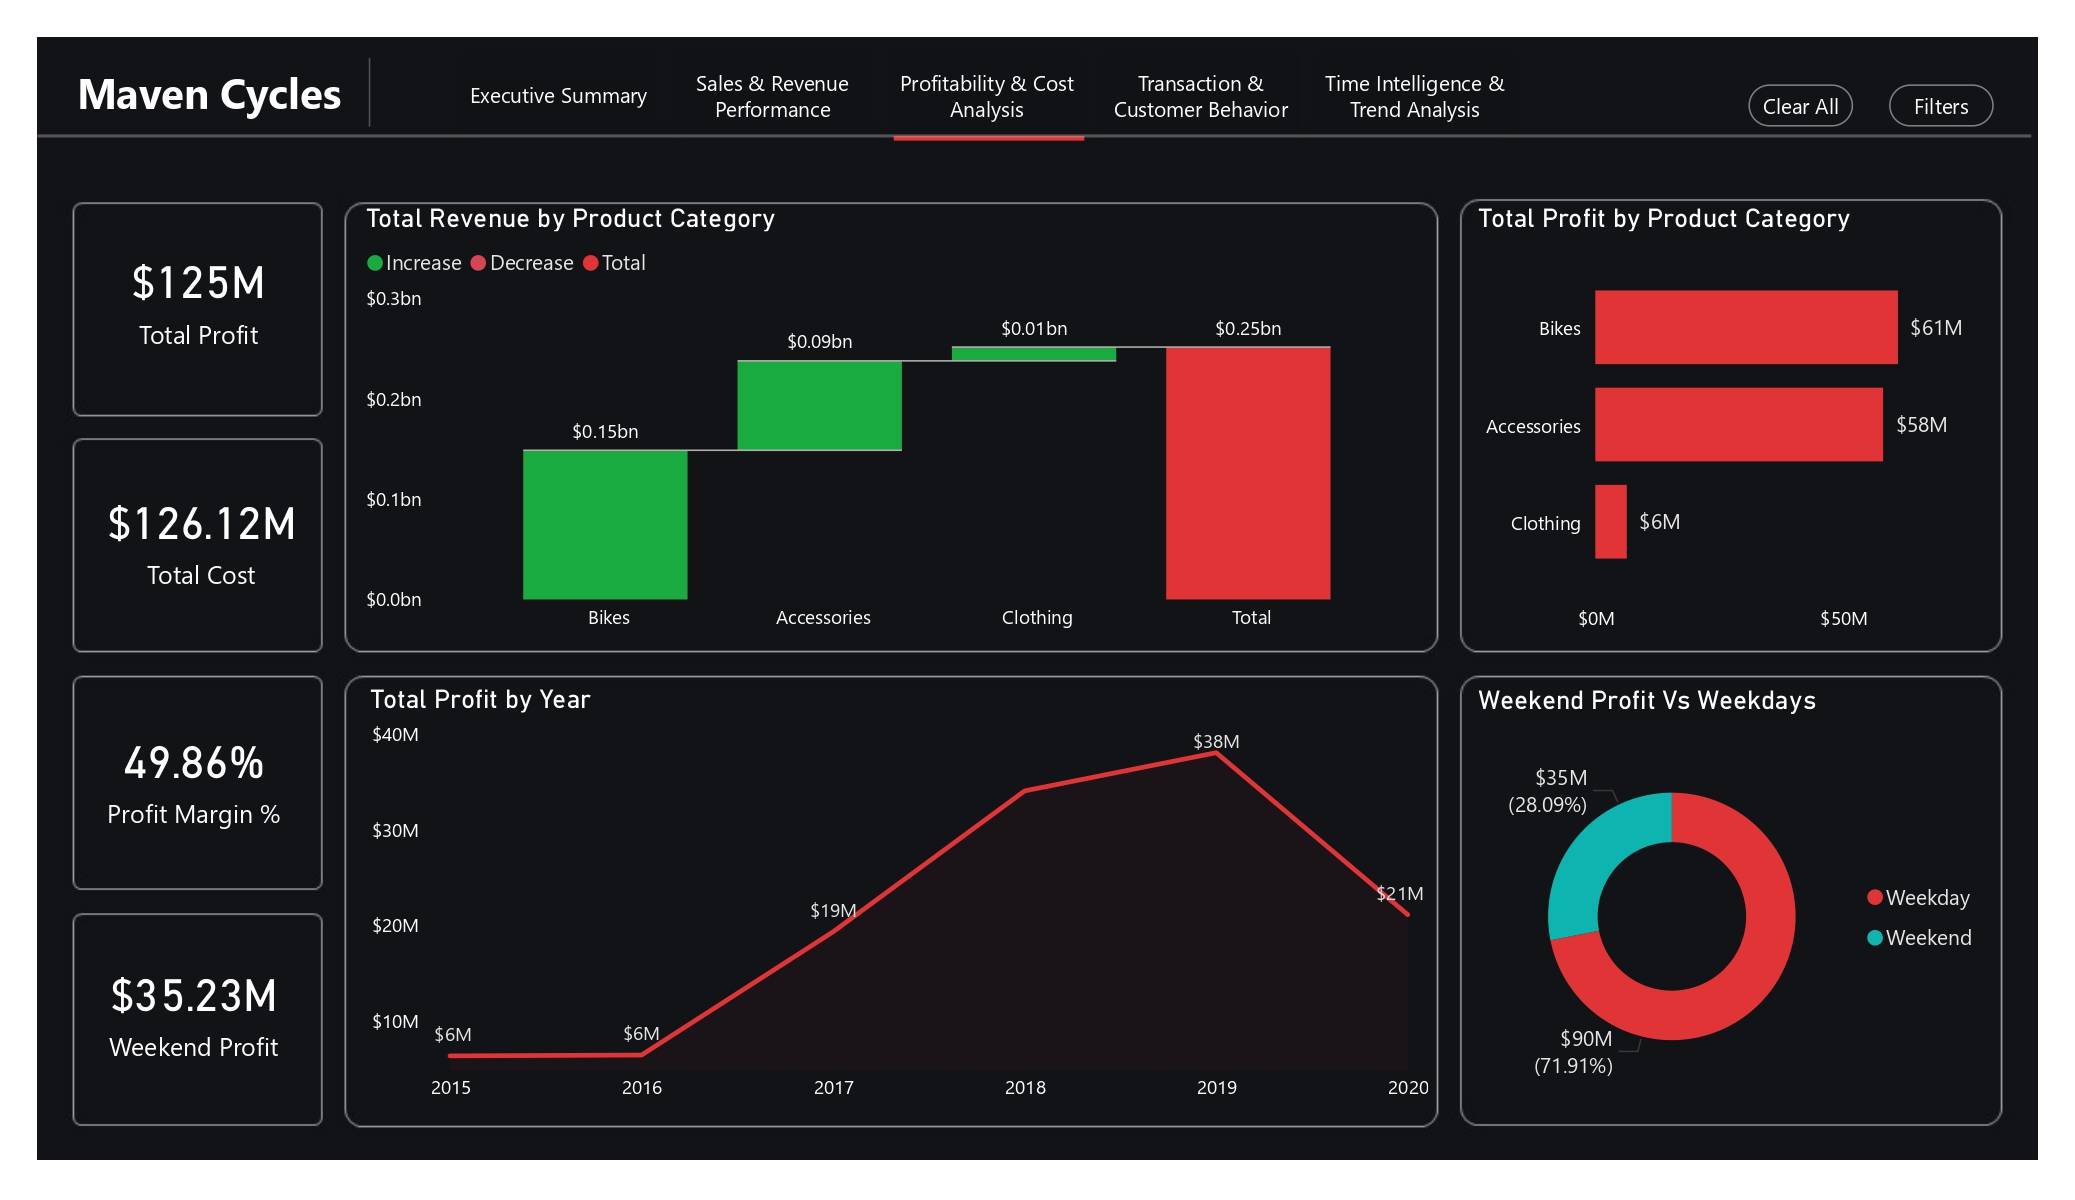

This screenshot's page, from the dashboard's own definition file:
{"tool":"powerbi","page":{"name":"Profitability & Cost Analysis","canvas":[1280,720],"ordinal":2},"visuals":[{"type":"actionButton","box":[21.4,4.3,201.2,61.4],"z":0},{"type":"pageNavigator","box":[284.5,53.5,649.7,12.5],"z":0,"group":"g1"},{"type":"pageNavigator","box":[270.2,9.6,675.5,52.7],"z":1000,"group":"g1"},{"type":"shape","box":[191.5,12.8,42.6,44.7],"z":1000},{"type":"card","fields":{"Values":["Measure_Table.Total Profit"]},"box":[23.1,98.1,159.6,134.6],"z":2000},{"type":"card","fields":{"Values":["Measure_Table.Total Cost"]},"box":[23.1,251.9,163.5,134.6],"z":3000},{"type":"card","fields":{"Values":["Measure_Table.Profit Margin %"]},"box":[23.1,407.7,153.8,128.8],"z":4000},{"type":"card","fields":{"Values":["Measure_Table.Weekend Profit"]},"box":[23.1,555.8,153.8,130.8],"z":5000},{"type":"waterfallChart","title":"Total Revenue by Product Category","fields":{"Category":["Dim_Product_Categories.ProductCategory"],"Y":["Measure_Table.Total Revenue"]},"box":[204.8,104.8,687.3,285.7],"z":6000},{"type":"clusteredBarChart","title":"Total Profit by Product Category","fields":{"Category":["Dim_Product_Categories.ProductCategory"],"Y":["Measure_Table.Total Profit"]},"box":[917.5,104.8,338.1,285.7],"z":7000},{"type":"donutChart","title":"Weekend Profit Vs Weekdays","fields":{"Category":["DimCalendar.Day_Type"],"Y":["Measure_Table.Total Profit"]},"box":[917.5,414.3,334.9,277.8],"z":8000},{"type":"lineChart","fields":{"Category":["DimCalendar.Year"],"Y":["Measure_Table.Total Profit"]},"box":[207.9,412.7,687.3,277.8],"z":9000},{"type":"group","id":"g1","title":"Group 1","box":[270.2,9.6,675.5,56.4],"z":10000},{"type":"actionButton","box":[1184.6,29.9,67.2,26.9],"z":12000},{"type":"actionButton","box":[1095,29.9,67.2,26.9],"z":13000},{"type":"shape","box":[0,56.4,1275.5,13.8],"z":15001}]}

Visuals, with their boxes on the page's 1280x720 design canvas (x1, y1, x2, y2). These are canvas units, not pixel positions in the 2075x1200 screenshot, which may show the page scaled, cropped or inside an application window:
actionButton: [21,4,223,66]
pageNavigator: [284,54,934,66]
pageNavigator: [270,10,946,62]
shape: [192,13,234,58]
card - Measure_Table.Total Profit: [23,98,183,233]
card - Measure_Table.Total Cost: [23,252,187,386]
card - Measure_Table.Profit Margin %: [23,408,177,536]
card - Measure_Table.Weekend Profit: [23,556,177,687]
"Total Revenue by Product Category" waterfallChart: [205,105,892,390]
"Total Profit by Product Category" clusteredBarChart: [918,105,1256,390]
"Weekend Profit Vs Weekdays" donutChart: [918,414,1252,692]
lineChart - DimCalendar.Year x Measure_Table.Total Profit: [208,413,895,690]
"Group 1" group: [270,10,946,66]
actionButton: [1185,30,1252,57]
actionButton: [1095,30,1162,57]
shape: [0,56,1276,70]
